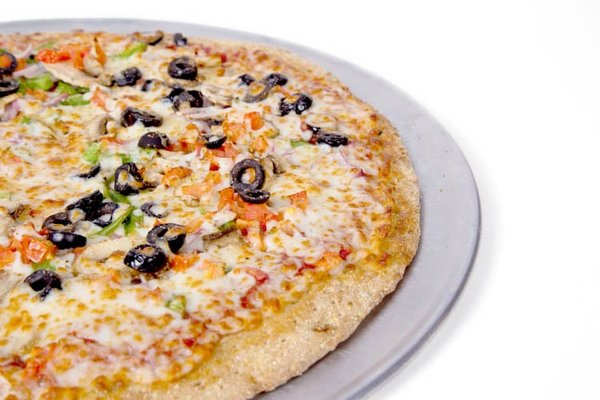curry: (6, 0, 594, 394)
sandwich: (1, 27, 423, 393)
